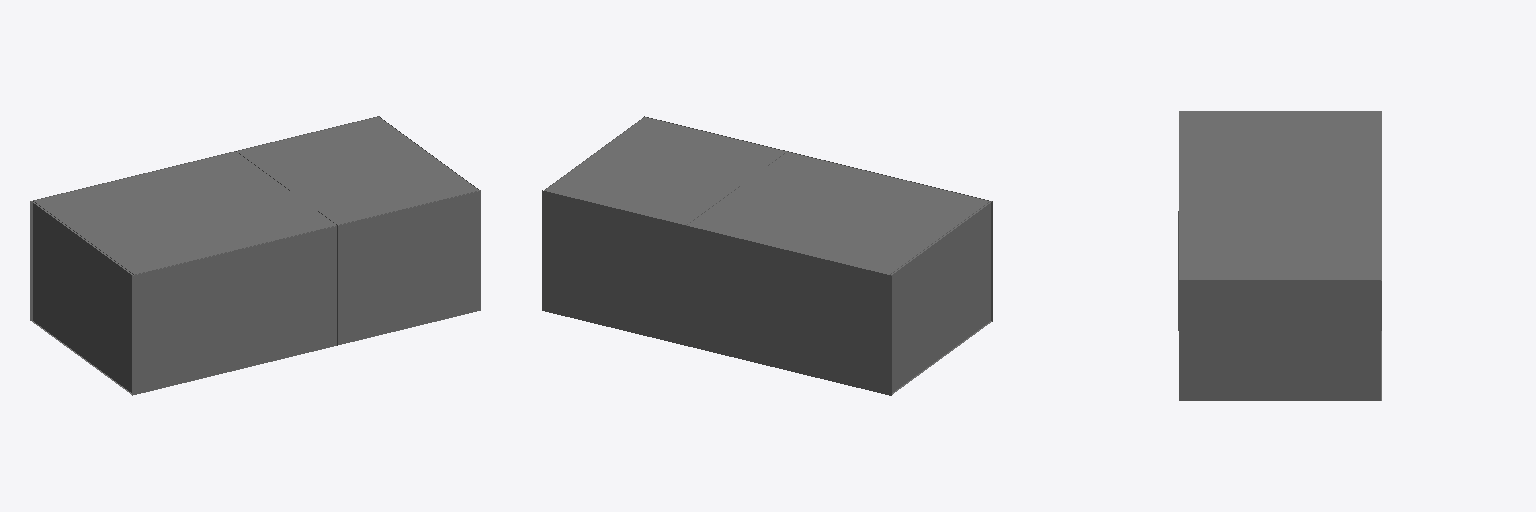
Rendered from Environment_v02.obj.
3 views of the same model, side by side, from view 1: azimuth 30°, elevation 25°; view 2: azimuth 150°, elevation 25°; view 3: azimuth 270°, elevation 25° (orthographic).
Bounding box in the file's own units: 1016 × 335 × 513.